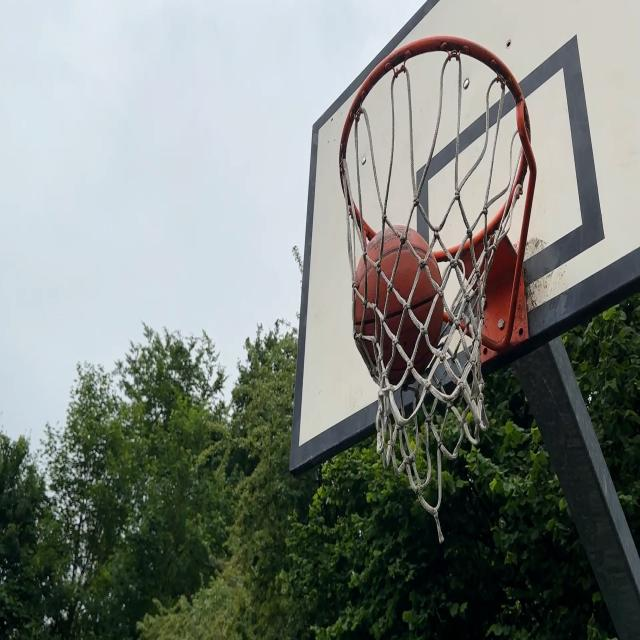Goal: (349, 228, 443, 385)
